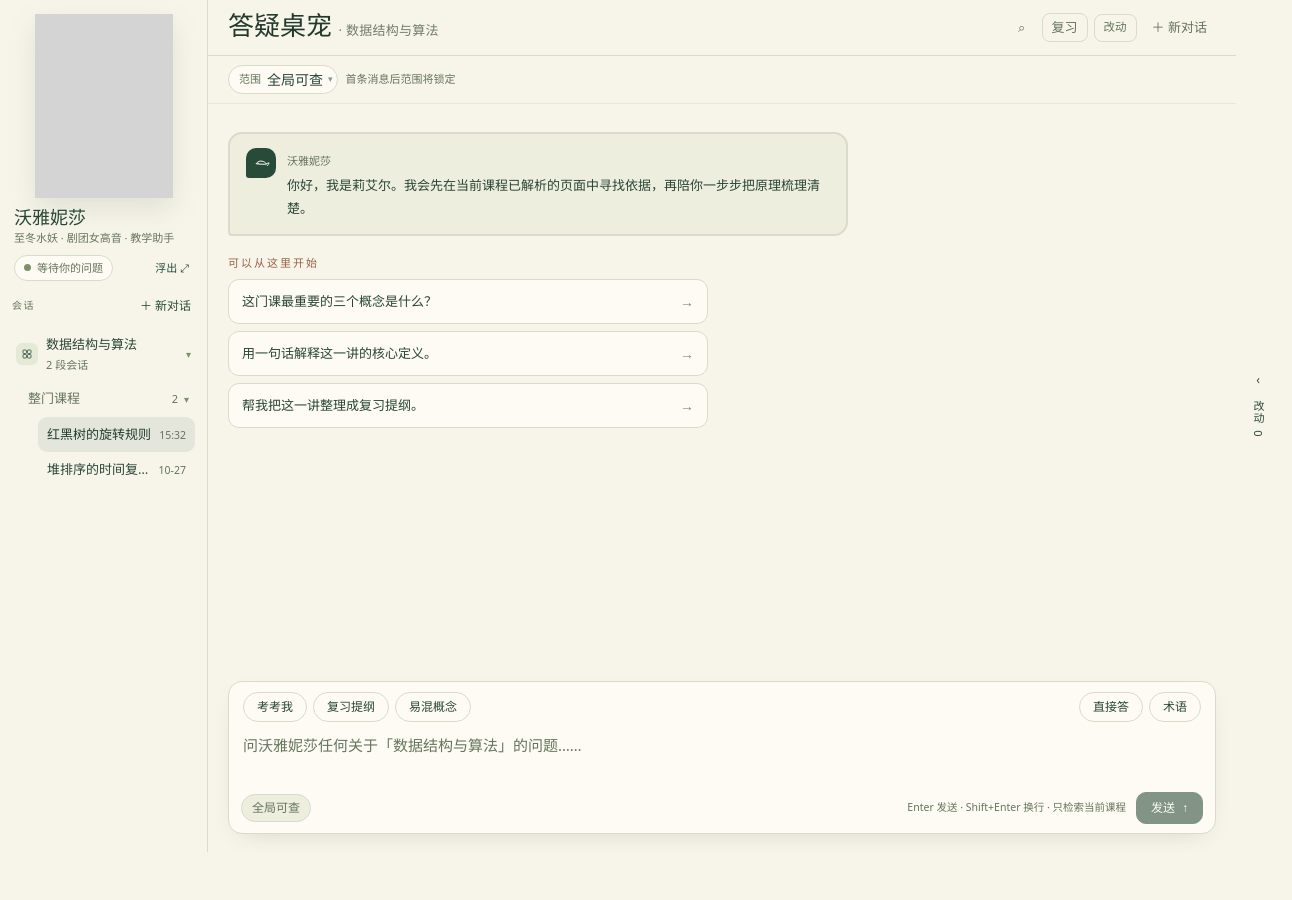
Test case: 课件收窄控件仅在「整门课程」档显示，点开列出当前课程课件
Check: the button "课件 · " is not shown
Step 1. Click the button titled "修改提问范围" → {"x": 300, "y": 80}, box [267,68,332,91]
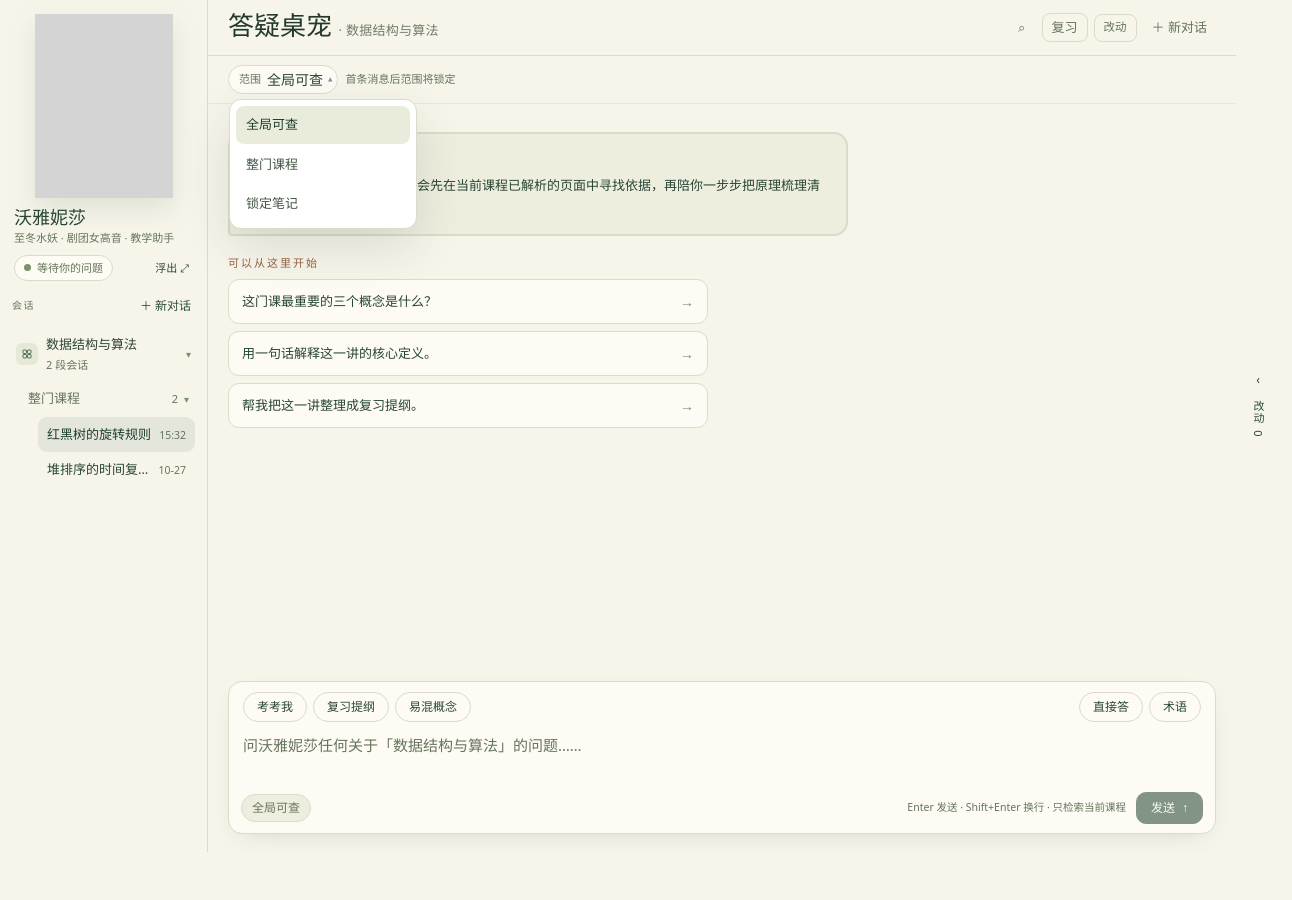
Step 2. Click the menu item "整门课程" → {"x": 323, "y": 164}, box [236,146,410,183]
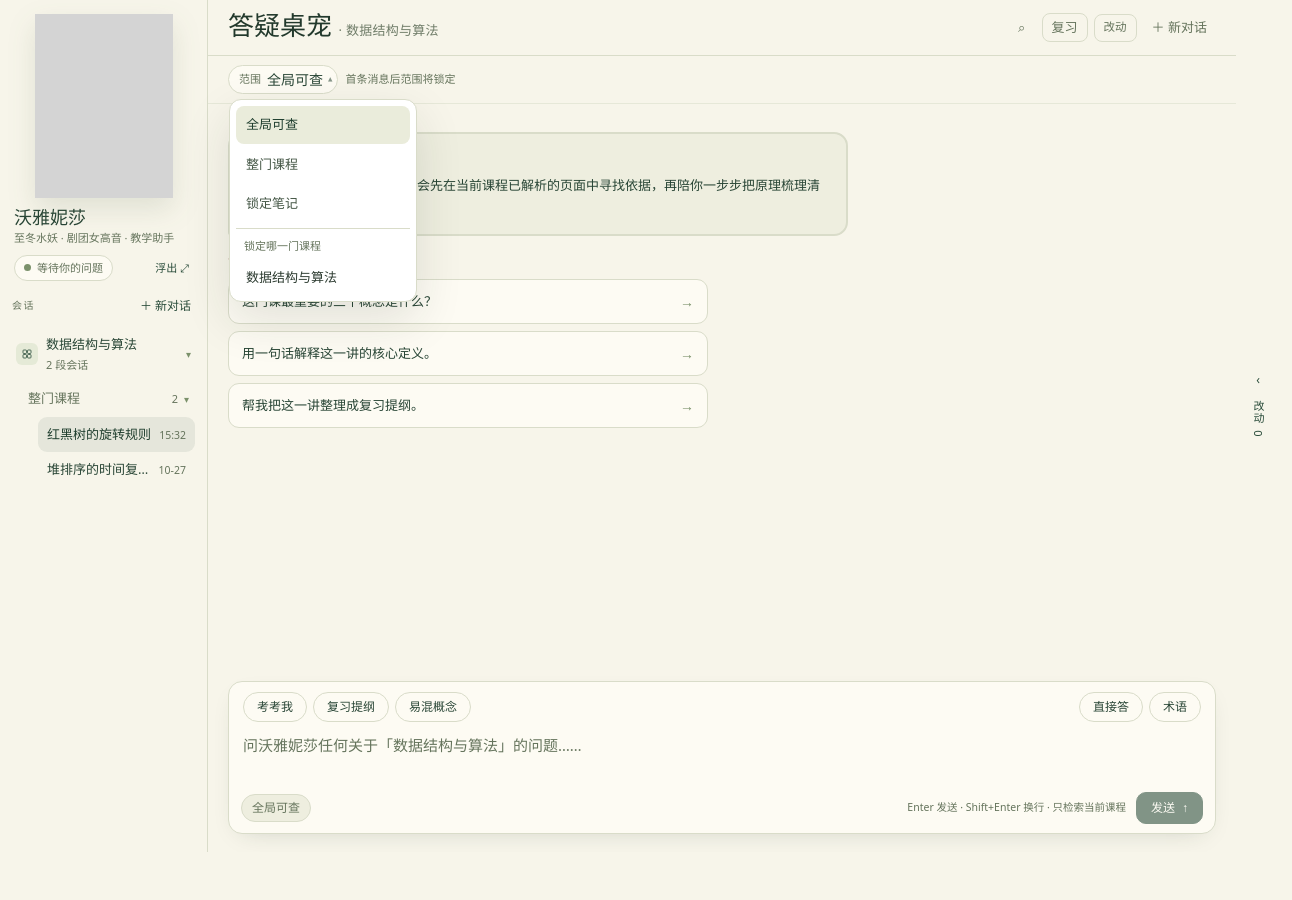
Step 3. Click the button with class "workspace-scope-pick" → {"x": 323, "y": 277}, box [236,260,410,295]
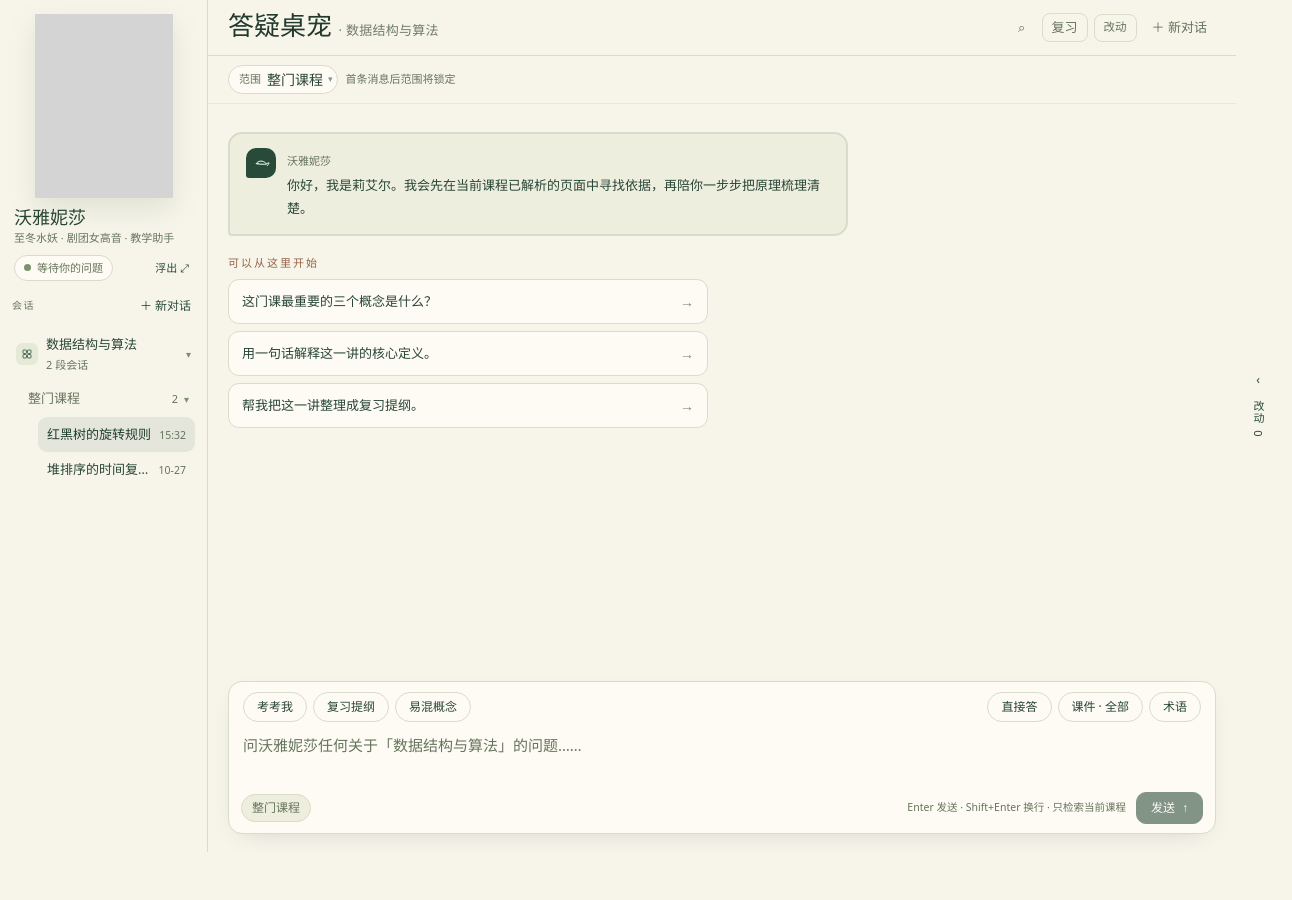
Check: the button "课件 · 全部" is shown
Step 4. Click the button "课件 · 全部" → {"x": 1100, "y": 707}, box [1058,692,1143,722]
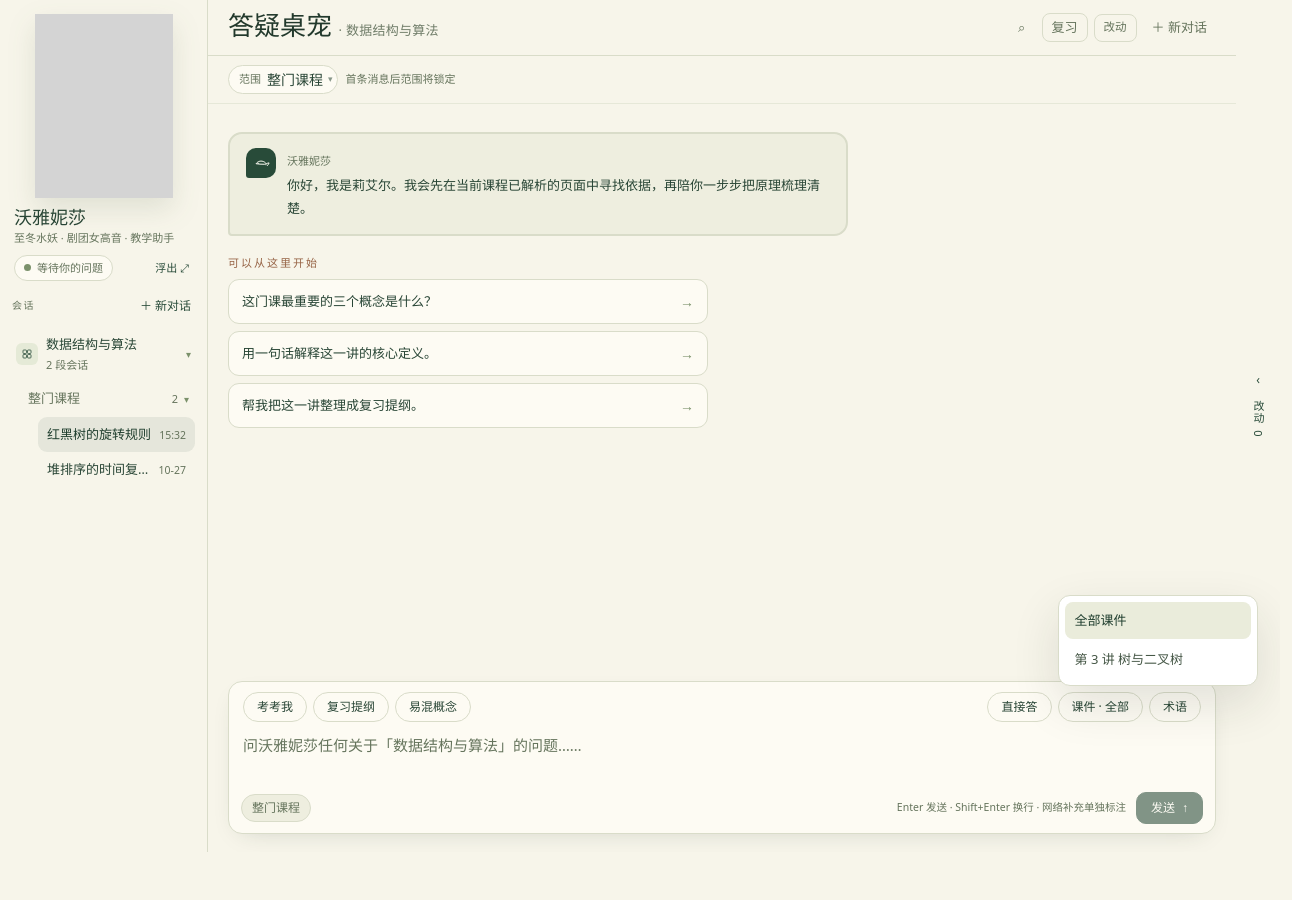
Check: the menu named "选择收窄课件" shows "全部课件", box [1064,602,1250,639]
Check: the menu named "选择收窄课件" shows "第 3 讲 树与二叉树", box [1064,642,1250,679]
